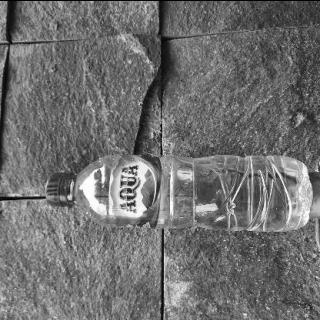plastic_bottles: (44, 150, 312, 233)
